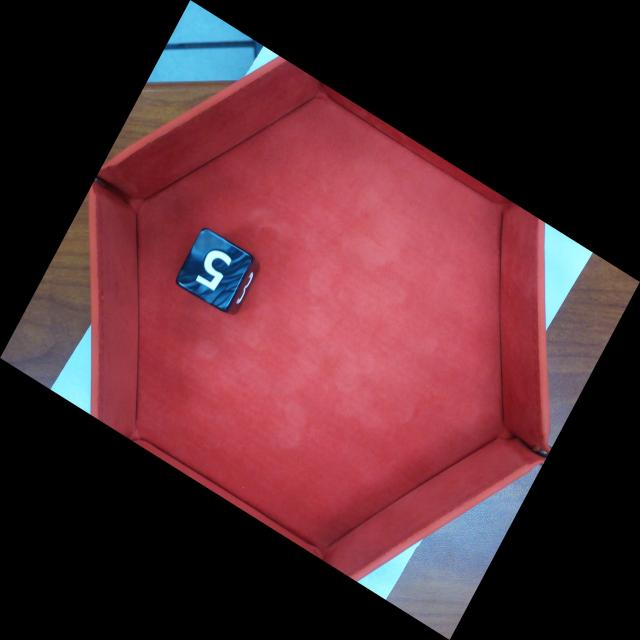dice: (175, 227, 252, 312)
